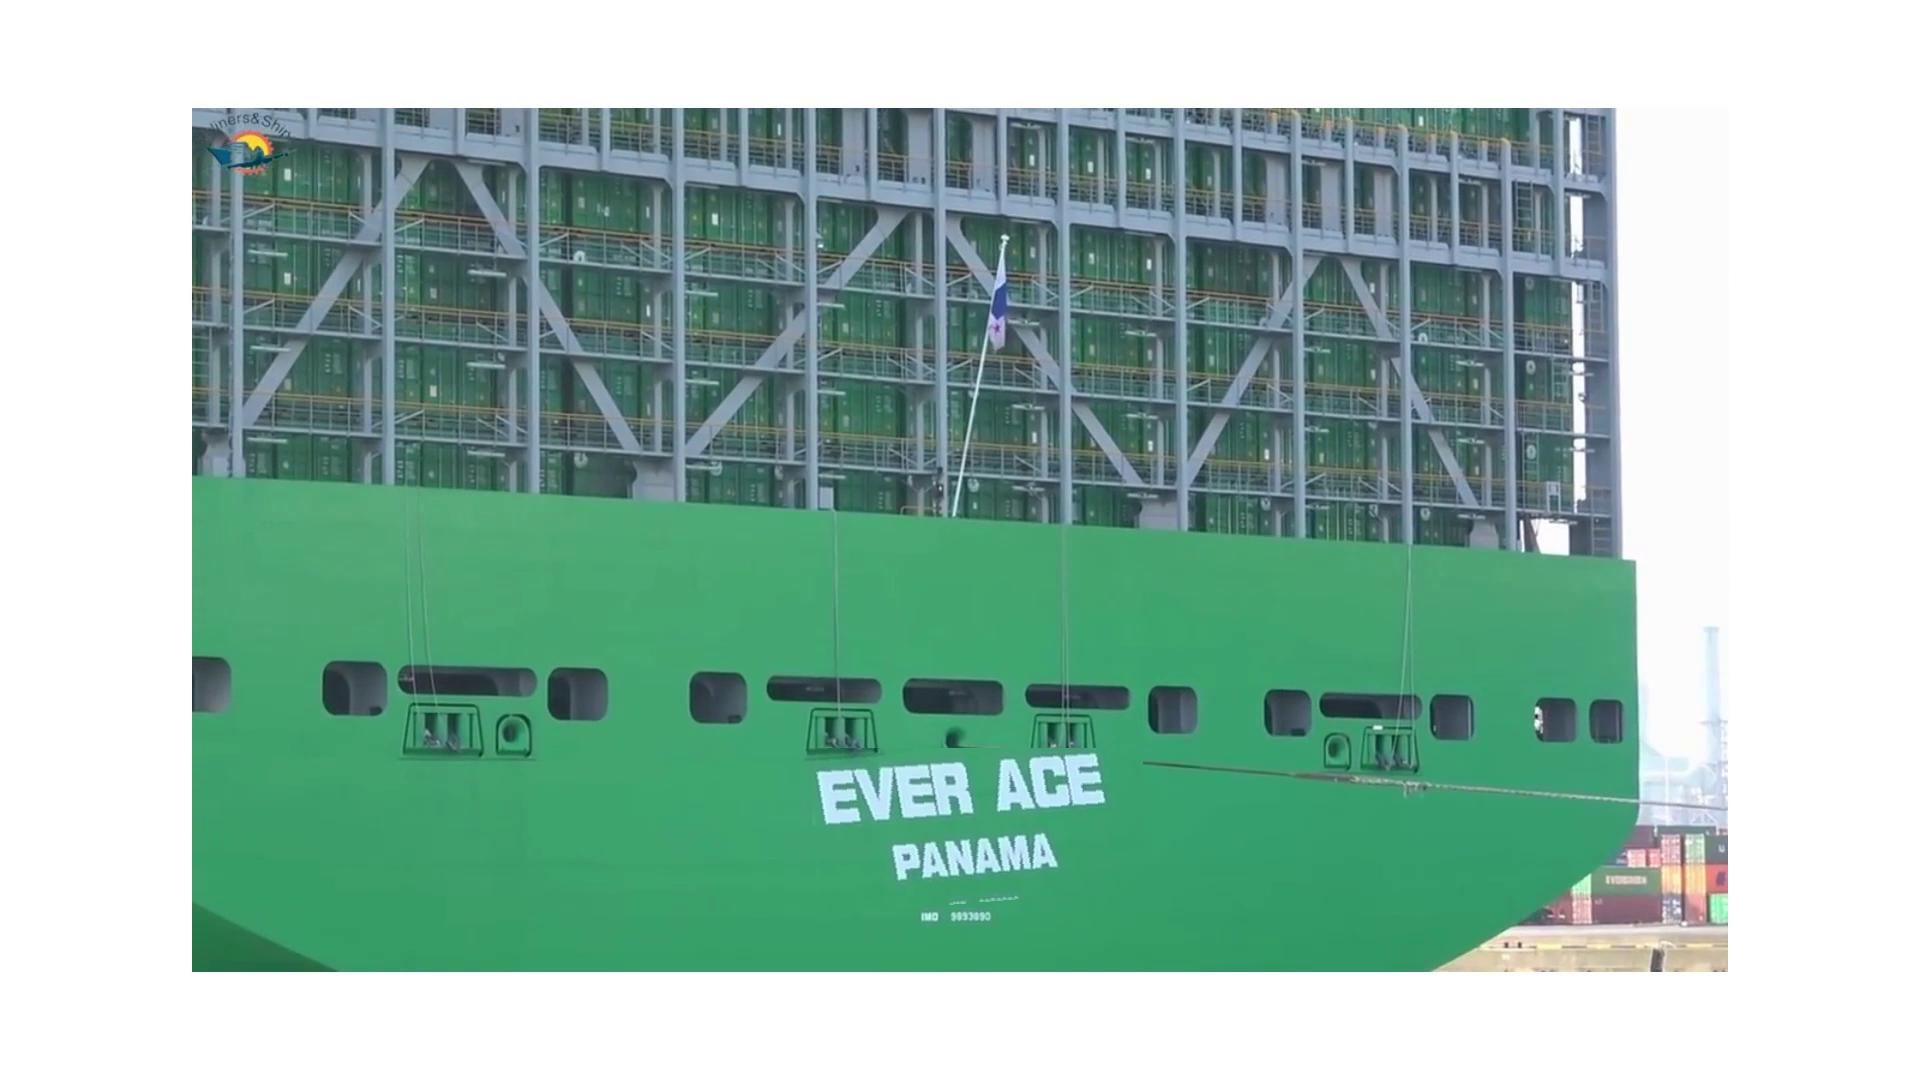OCR: (796, 748, 1143, 915)
